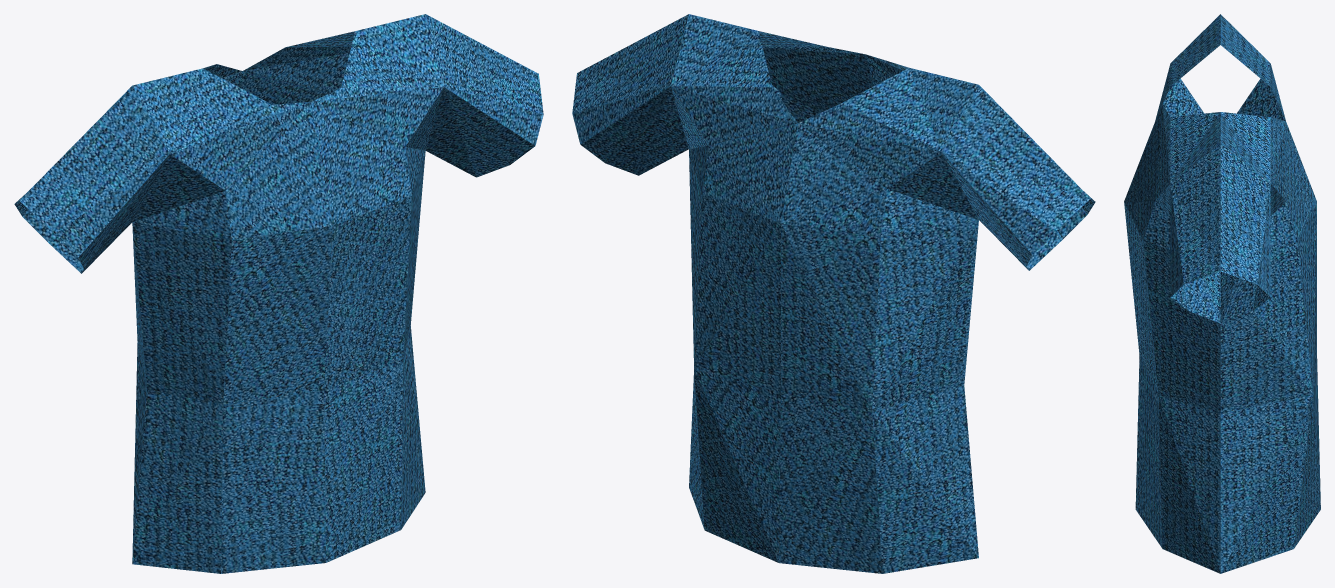
Rendered from blue_t-shirt_nike.obj.
3 renders of one model, left to right at view 1: azimuth 30°, elevation 25°; view 2: azimuth 150°, elevation 25°; view 3: azimuth 270°, elevation 25°, orthographic. The views are drawn at different scales.
Parts seen in each view (by area): view 1: Mesh1 Shirt1 Model; view 2: Mesh1 Shirt1 Model; view 3: Mesh1 Shirt1 Model.
Boxes of the visible parts, x1,y1,x2,y2 form: Mesh1 Shirt1 Model: (14, 14, 543, 573); Mesh1 Shirt1 Model: (572, 14, 1095, 573); Mesh1 Shirt1 Model: (1124, 14, 1320, 573).
Bounding box in the file's own units: 88.9 × 78.24 × 32.38.
Materials: 1 (1 with a texture image).
